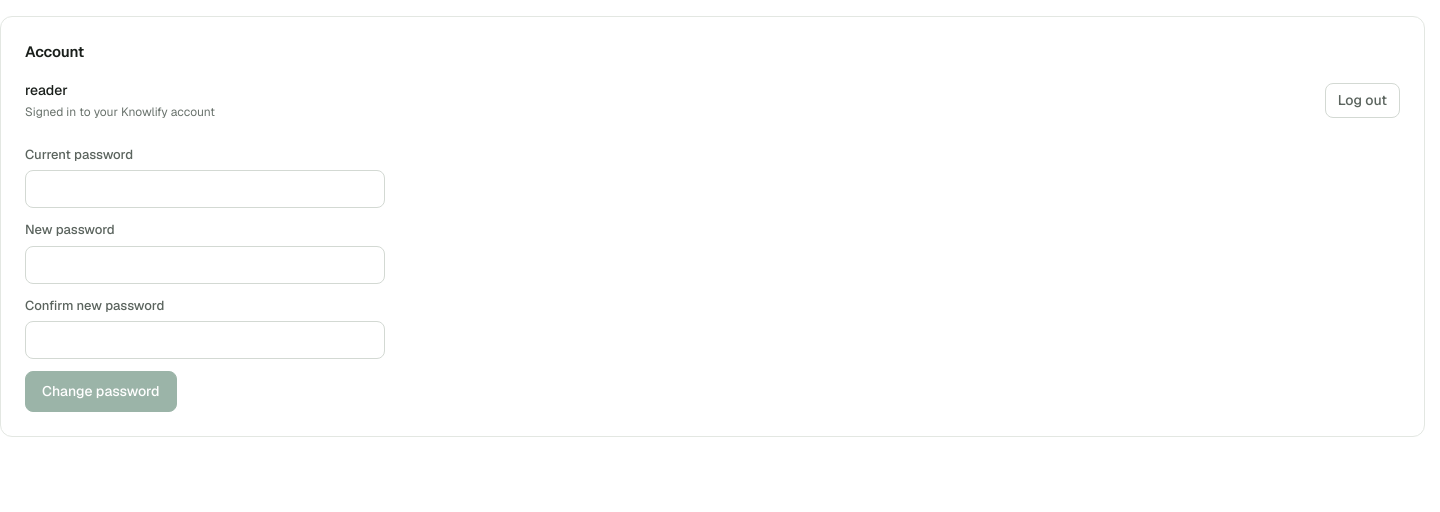
Scenario: AccountCard › shows a 403 inline without logging out or changing credentials
Type "wrong-pass" into the password field labelled "Current password". click: (205, 189)
box: [25,170,385,208]
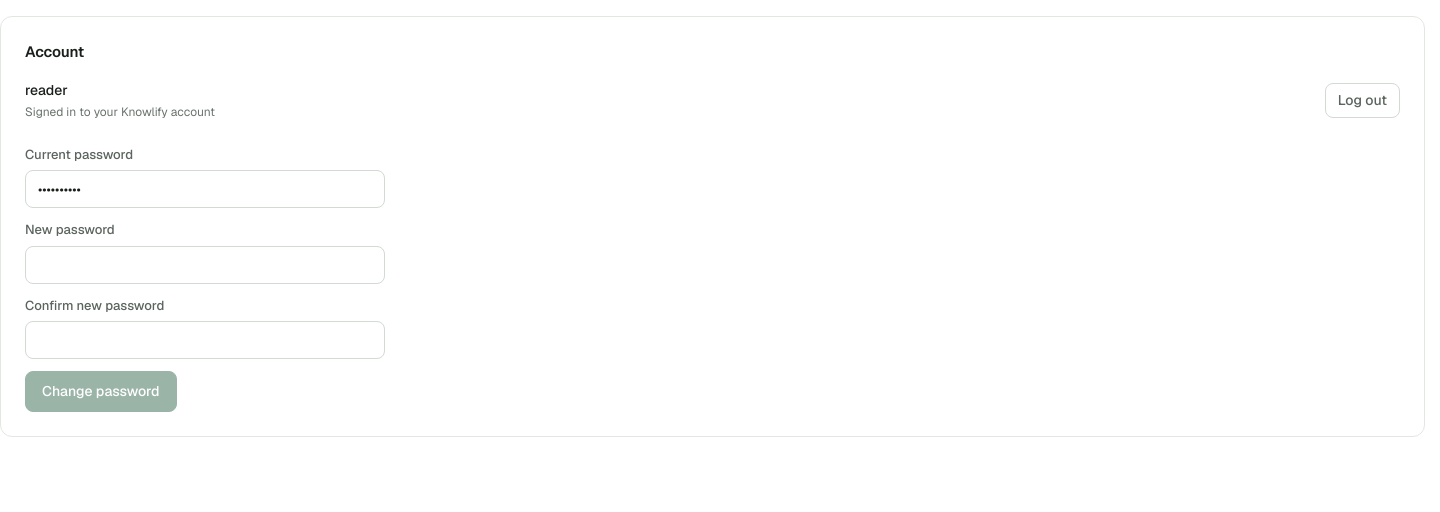
Type "next-password" into the password field labelled "New password". click: (205, 264)
box: [25,246,385,284]
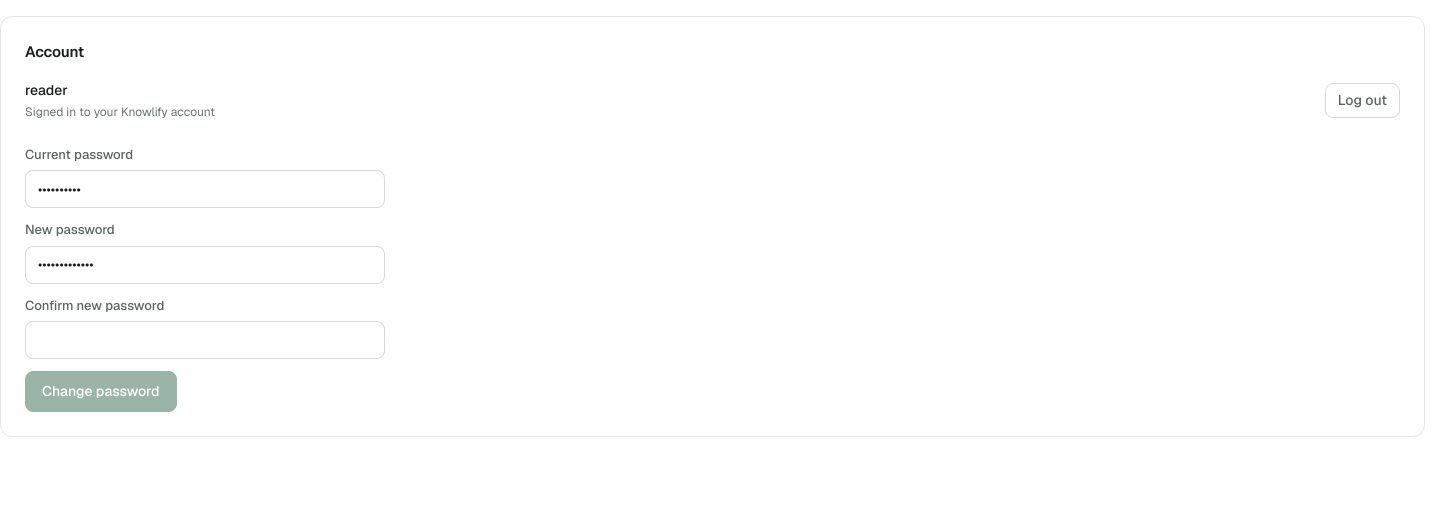
Type "next-password" into the password field labelled "Confirm new password". click: (205, 340)
box: [25,321,385,359]
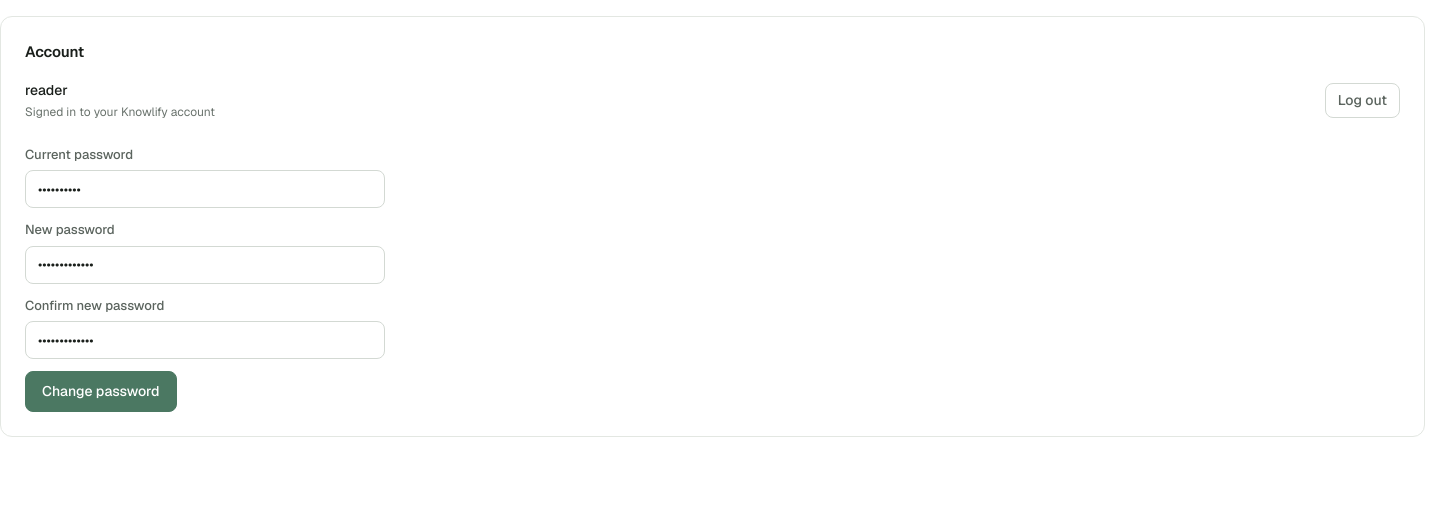
Click the button "Change password". click: (101, 392)
box: [25,371,176,412]
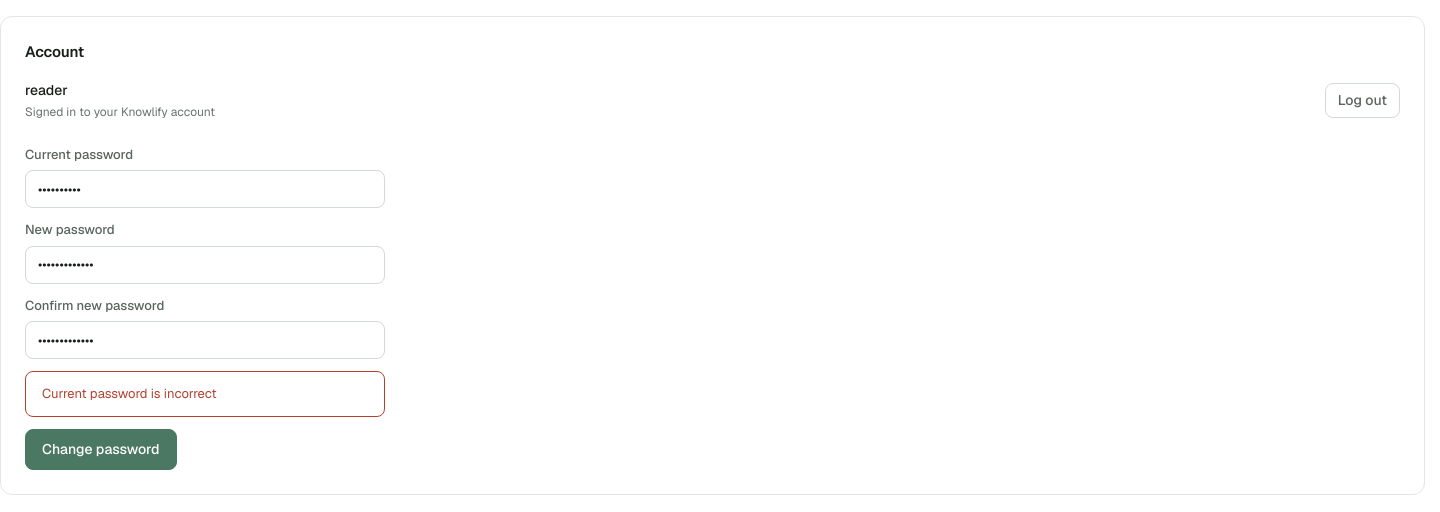
Now the message reads "Current password is incorrect", box [42,385,217,402]
